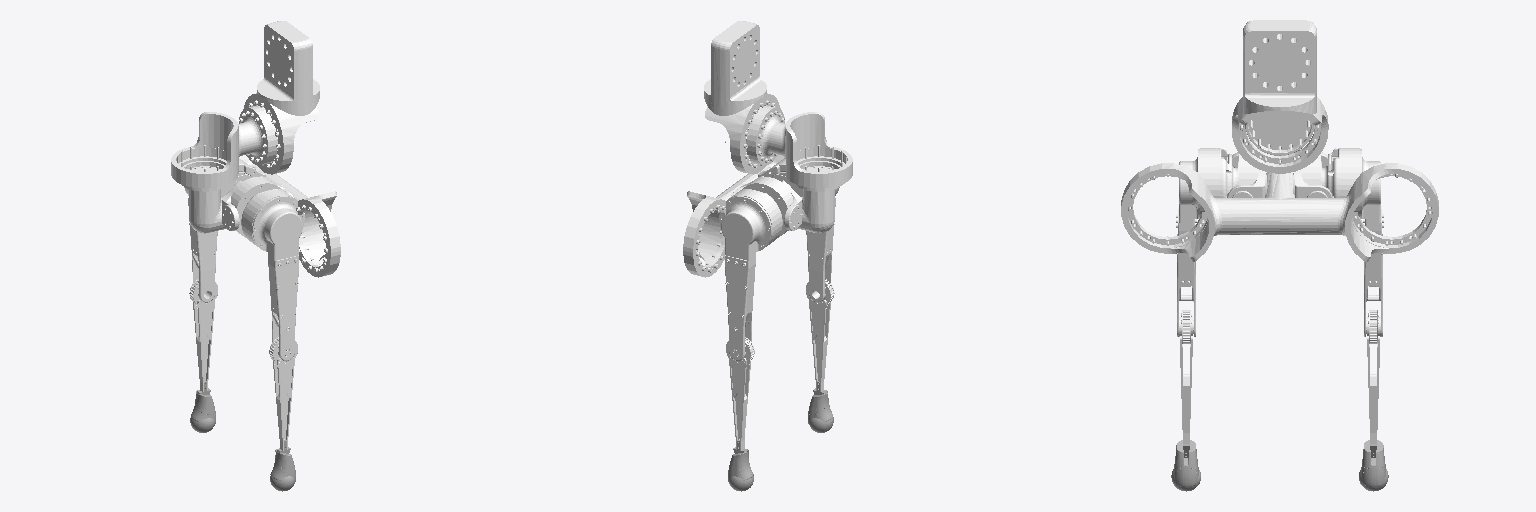
The robot description file, URDF, robot "RobBIE":
<?xml version="1.0" encoding="utf-8"?>
<!-- This URDF was automatically created by SolidWorks to URDF Exporter! Originally created by [author] ([email redacted]) 
     Commit Version: 1.6.0-4-g7f85cfe  Build Version: 1.6.7995.38578
     For more information, please see http://wiki.ros.org/sw_urdf_exporter -->
<robot
  name="RobBIE">
  <mujoco>
     <compiler meshdir="[local-path]/Downloads/2023-10-25/RobBIE/meshes" balanceinertia="true" discardvisual="false"/>
  </mujoco>
  <link
    name="base_link">
    <inertial>
      <origin
        xyz="-0.0156193877555741 0.000182345207899927 0.0886989663564026"
        rpy="0 0 0" />
      <mass
        value="1.6474097770275" />
      <inertia
        ixx="0.00338593778360563"
        ixy="2.1971113305729E-07"
        ixz="8.60575373312658E-07"
        iyy="0.00240115842669287"
        iyz="-7.07746264850654E-07"
        izz="0.00332392685879041" />
    </inertial>
    <visual>
      <origin
        xyz="0 0 0"
        rpy="0 0 0" />
      <geometry>
        <mesh
          filename="package://RobBIE/meshes/base_link.STL" />
      </geometry>
      <material
        name="">
        <color
          rgba="1 1 1 1" />
      </material>
    </visual>
  </link>
  <link
    name="left_ABAD">
    <inertial>
      <origin
        xyz="0.0720984382438124 -0.0102291280564825 -0.000482706430687257"
        rpy="0 0 0" />
      <mass
        value="0.257235646631152" />
      <inertia
        ixx="0.00015894651542337"
        ixy="-1.93392639740281E-06"
        ixz="-1.80358974913652E-07"
        iyy="0.000361595023846168"
        iyz="1.22132671673481E-06"
        izz="0.000247247876470301" />
    </inertial>
    <visual>
      <origin
        xyz="0 0 0"
        rpy="0 0 0" />
      <geometry>
        <mesh
          filename="package://RobBIE/meshes/left_ABAD.STL" />
      </geometry>
      <material
        name="">
        <color
          rgba="1 1 1 1" />
      </material>
    </visual>
  </link>
  <joint
    name="left_ABAD_S"
    type="revolute">
    <origin
      xyz="-0.0725 0.0499999999999908 0"
      rpy="0 0 0" />
    <parent
      link="base_link" />
    <child
      link="left_ABAD" />
    <axis
      xyz="1 0 0" />
    <limit
      lower="-0.7894"
      upper="0.7894"
      effort="18"
      velocity="31.4" />
  </joint>
  <link
    name="left_hip">
    <inertial>
      <origin
        xyz="-3.26850398397507E-05 0.055397733917648 -0.0150076368029083"
        rpy="0 0 0" />
      <mass
        value="0.357159463392639" />
      <inertia
        ixx="0.0002661297880485"
        ixy="7.39780266629475E-09"
        ixz="1.80780377792657E-07"
        iyy="0.000420678541654242"
        iyz="-2.48417548539542E-06"
        izz="0.000191036024032691" />
    </inertial>
    <visual>
      <origin
        xyz="0 0 0"
        rpy="0 0 0" />
      <geometry>
        <mesh
          filename="package://RobBIE/meshes/left_hip.STL" />
      </geometry>
      <material
        name="">
        <color
          rgba="1 1 1 1" />
      </material>
    </visual>
  </link>
  <joint
    name="left_hip_S"
    type="revolute">
    <origin
      xyz="0.0725 -0.00800000000000285 0"
      rpy="0 0 0" />
    <parent
      link="left_ABAD" />
    <child
      link="left_hip" />
    <axis
      xyz="0 1 0" />
    <limit
      lower="-1.0526"
      upper="1.0526"
      effort="18"
      velocity="31.4" />
  </joint>
  <link
    name="left_knee">
    <inertial>
      <origin
        xyz="-4.61793047061303E-08 0.00180000201161323 -0.0360992310344352"
        rpy="0 0 0" />
      <mass
        value="0.030040029217063" />
      <inertia
        ixx="3.11313510055854E-05"
        ixy="2.36053263982438E-12"
        ixz="-5.98008406551221E-11"
        iyy="3.3319252699132E-05"
        iyz="-4.13309176747311E-13"
        izz="3.17869737046125E-06" />
    </inertial>
    <visual>
      <origin
        xyz="0 0 0"
        rpy="0 0 0" />
      <geometry>
        <mesh
          filename="package://RobBIE/meshes/left_knee.STL" />
      </geometry>
      <material
        name="">
        <color
          rgba="1 1 1 1" />
      </material>
    </visual>
    <collision>
      <origin
        xyz="0 0 0"
        rpy="0 0 0" />
      <geometry>
        <mesh
          filename="package://RobBIE/meshes/left_knee.STL" />
      </geometry>
    </collision>
  </link>
  <joint
    name="left_knee_S"
    type="revolute">
    <origin
      xyz="0 0.0817000000001674 -0.2115"
      rpy="0 0 0" />
    <parent
      link="left_hip" />
    <child
      link="left_knee" />
    <axis
      xyz="0 1 0" />
    <limit
      lower="-2.632"
      upper="2.632"
      effort="18"
      velocity="31.4" />
  </joint>
  <link
    name="left_foot">
    <inertial>
      <origin
        xyz="0.00158990856920642 0.00999994857216367 0.0152927004781659"
        rpy="0 0 0" />
      <mass
        value="0.0449838300681837" />
      <inertia
        ixx="7.56629847353255E-06"
        ixy="5.14855289402061E-11"
        ixz="-5.90733968973277E-07"
        iyy="7.52232377809343E-06"
        iyz="7.31169784295025E-12"
        izz="7.59278173373895E-06" />
    </inertial>
    <visual>
      <origin
        xyz="0 0 0"
        rpy="0 0 0" />
      <geometry>
        <mesh
          filename="package://RobBIE/meshes/left_foot.STL" />
      </geometry>
      <material
        name="">
        <color
          rgba="0.752941176470588 0.752941176470588 0.752941176470588 1" />
      </material>
    </visual>
    <collision>
      <origin
        xyz="0 0 0"
        rpy="0 0 0" />
      <geometry>
        <mesh
          filename="package://RobBIE/meshes/left_foot.STL" />
      </geometry>
    </collision>
  </link>
  <joint
    name="leftt_foot_S"
    type="fixed">
    <origin
      xyz="-0.00193707615798923 -0.00820000000047881 -0.222365686989672"
      rpy="0 0 0" />
    <parent
      link="left_knee" />
    <child
      link="left_foot" />
    <axis
      xyz="0 0 0" />
  </joint>
  <link
    name="right_ABAD">
    <inertial>
      <origin
        xyz="0.0721895984771259 0.0102291280545477 -0.000482701005471326"
        rpy="0 0 0" />
      <mass
        value="0.257235646635761" />
      <inertia
        ixx="0.000158946520202127"
        ixy="1.95347621023052E-06"
        ixz="-2.32486124176377E-07"
        iyy="0.000361595028043736"
        iyz="-1.22134039194391E-06"
        izz="0.000247247875875491" />
    </inertial>
    <visual>
      <origin
        xyz="0 0 0"
        rpy="0 0 0" />
      <geometry>
        <mesh
          filename="package://RobBIE/meshes/right_ABAD.STL" />
      </geometry>
      <material
        name="">
        <color
          rgba="1 1 1 1" />
      </material>
    </visual>
  </link>
  <joint
    name="right_ABAD_S"
    type="revolute">
    <origin
      xyz="-0.0725 -0.0500000000000085 0"
      rpy="0 0 0" />
    <parent
      link="base_link" />
    <child
      link="right_ABAD" />
    <axis
      xyz="1 0 0" />
    <limit
      lower="-0.7892"
      upper="0.7892"
      effort="18"
      velocity="31.4" />
  </joint>
  <link
    name="right_hip">
    <inertial>
      <origin
        xyz="3.26851400440755E-05 -0.055397733907411 -0.0150076354351169"
        rpy="0 0 0" />
      <mass
        value="0.357159463521501" />
      <inertia
        ixx="0.000268706378914576"
        ixy="9.89040709866797E-09"
        ixz="5.87524620596679E-10"
        iyy="0.000423270173257364"
        iyz="2.52050250240305E-06"
        izz="0.000191052031575596" />
    </inertial>
    <visual>
      <origin
        xyz="0 0 0"
        rpy="0 0 0" />
      <geometry>
        <mesh
          filename="package://RobBIE/meshes/right_hip.STL" />
      </geometry>
      <material
        name="">
        <color
          rgba="1 1 1 1" />
      </material>
    </visual>
  </link>
  <joint
    name="right_hip_S"
    type="revolute">
    <origin
      xyz="0.0725 0.00800000000000284 0"
      rpy="0 0 0" />
    <parent
      link="right_ABAD" />
    <child
      link="right_hip" />
    <axis
      xyz="0 1 0" />
    <limit
      lower="-1.0526"
      upper="1.0526"
      effort="18"
      velocity="31.4" />
  </joint>
  <link
    name="right_knee">
    <inertial>
      <origin
        xyz="4.61792994654176E-08 -0.00180000201161726 -0.0360992310338663"
        rpy="0 0 0" />
      <mass
        value="0.0300400292165565" />
      <inertia
        ixx="3.11313510060633E-05"
        ixy="2.36053020040435E-12"
        ixz="5.98008331890583E-11"
        iyy="3.33192526996659E-05"
        iyz="4.13305893075785E-13"
        izz="3.17869737041181E-06" />
    </inertial>
    <visual>
      <origin
        xyz="0 0 0"
        rpy="0 0 0" />
      <geometry>
        <mesh
          filename="package://RobBIE/meshes/right_knee.STL" />
      </geometry>
      <material
        name="">
        <color
          rgba="1 1 1 1" />
      </material>
    </visual>
  </link>
  <joint
    name="right_knee_S"
    type="revolute">
    <origin
      xyz="0 -0.0817000000001658 -0.2115"
      rpy="0 0 0" />
    <parent
      link="right_hip" />
    <child
      link="right_knee" />
    <axis
      xyz="0 1 0" />
    <limit
      lower="-2.632"
      upper="2.632"
      effort="18"
      velocity="31.4" />
  </joint>
  <link
    name="right_foot">
    <inertial>
      <origin
        xyz="0.00158990856769862 0.00999994856188979 0.0152927004698789"
        rpy="0 0 0" />
      <mass
        value="0.0449838300766633" />
      <inertia
        ixx="7.56629847693837E-06"
        ixy="5.14833033585987E-11"
        ixz="-5.90733967580384E-07"
        iyy="7.52232377734578E-06"
        iyz="7.3175427212442E-12"
        izz="7.59278173465422E-06" />
    </inertial>
    <visual>
      <origin
        xyz="0 0 0"
        rpy="0 0 0" />
      <geometry>
        <mesh
          filename="package://RobBIE/meshes/right_foot.STL" />
      </geometry>
      <material
        name="">
        <color
          rgba="0.752941176470588 0.752941176470588 0.752941176470588 1" />
      </material>
    </visual>
  </link>
  <joint
    name="right_foot_S"
    type="fixed">
    <origin
      xyz="-0.00193707615833201 -0.0117999999995178 -0.222365686989672"
      rpy="0 0 0" />
    <parent
      link="right_knee" />
    <child
      link="right_foot" />
    <axis
      xyz="0 0 0" />
  </joint>
</robot>

--- What the picture shows (computed from the rendered views, not written in the file) ---
The picture shows the robot from 3 angles, left to right: view 1: azimuth 30°, elevation 25°; view 2: azimuth 150°, elevation 25°; view 3: azimuth 270°, elevation 25°; orthographic projection.
Robot: RobBIE — 9 links, 8 joints (6 revolute, 2 fixed); root link base_link; default pose: all joints at 0.
Links seen in each view (by area): view 1: base_link, right_hip, left_hip, right_knee, left_knee, right_ABAD, left_foot, right_foot; view 2: base_link, left_hip, right_hip, left_knee, right_knee, left_ABAD, right_foot, left_foot; view 3: base_link, left_hip, right_hip, left_knee, right_knee, right_ABAD, left_ABAD, left_foot, right_foot.
Link boxes in pixels (x1,y1,x2,y2): base_link: (171, 21, 340, 277); right_hip: (241, 189, 304, 360); left_hip: (184, 158, 240, 302); right_knee: (269, 337, 297, 450); left_knee: (189, 279, 217, 391); right_ABAD: (222, 176, 293, 237); left_foot: (190, 381, 215, 432); right_foot: (270, 440, 295, 491); base_link: (683, 21, 852, 277); left_hip: (719, 189, 782, 360); right_hip: (784, 158, 839, 302); left_knee: (726, 337, 754, 450); right_knee: (806, 279, 834, 391); left_ABAD: (730, 176, 801, 237); right_foot: (808, 381, 833, 432); left_foot: (728, 440, 753, 491); base_link: (1121, 20, 1438, 261); left_hip: (1323, 148, 1383, 336); right_hip: (1176, 148, 1236, 336); left_knee: (1367, 310, 1380, 443); right_knee: (1179, 310, 1192, 443); right_ABAD: (1227, 148, 1266, 197); left_ABAD: (1293, 148, 1332, 197); left_foot: (1359, 440, 1388, 491); right_foot: (1171, 440, 1200, 491).
Size in the robot's own frame: 0.255 by 0.426 by 0.725 metres.
Meshes: 9 distinct files referenced, 9 mesh visuals loaded (9 binary STL).
